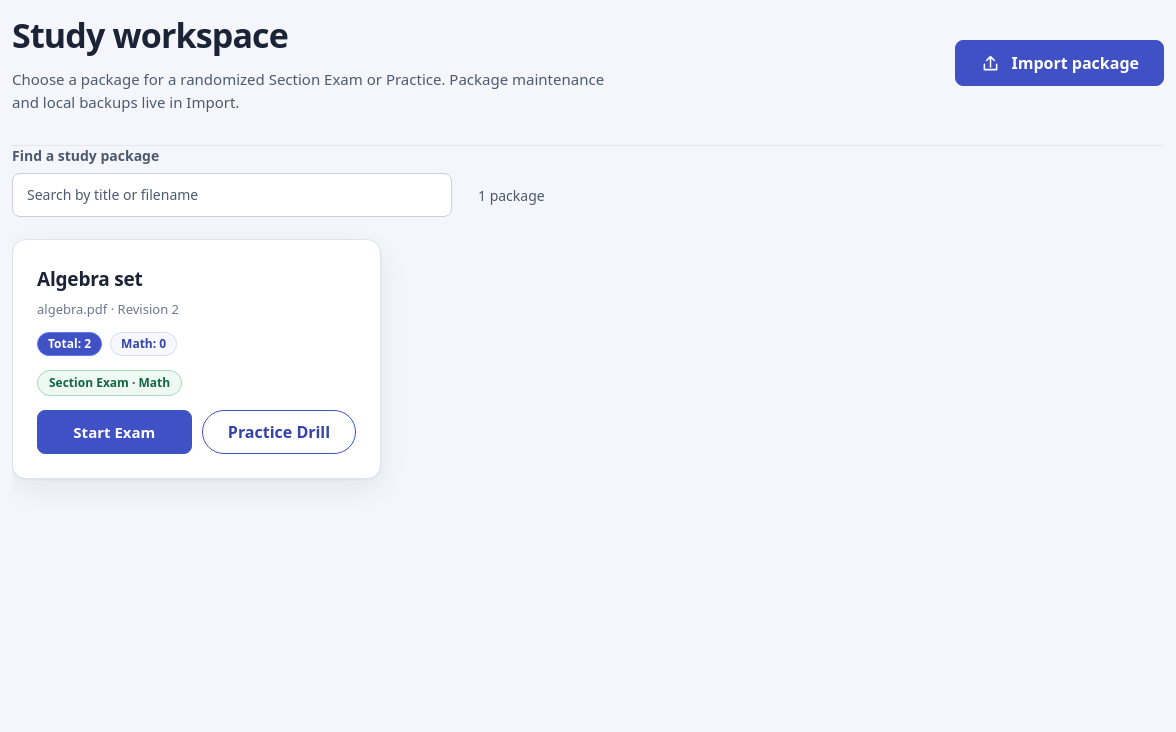
Test case: keeps only study actions and compact search in the study workspace
Expected: the heading "Study workspace" is shown, [12,12,288,58]
Expected: the button "Start Exam" is shown, [37,410,192,454]
In the search field labelled "Find a study package": point(232, 194) [12,172,452,216], type "missing"
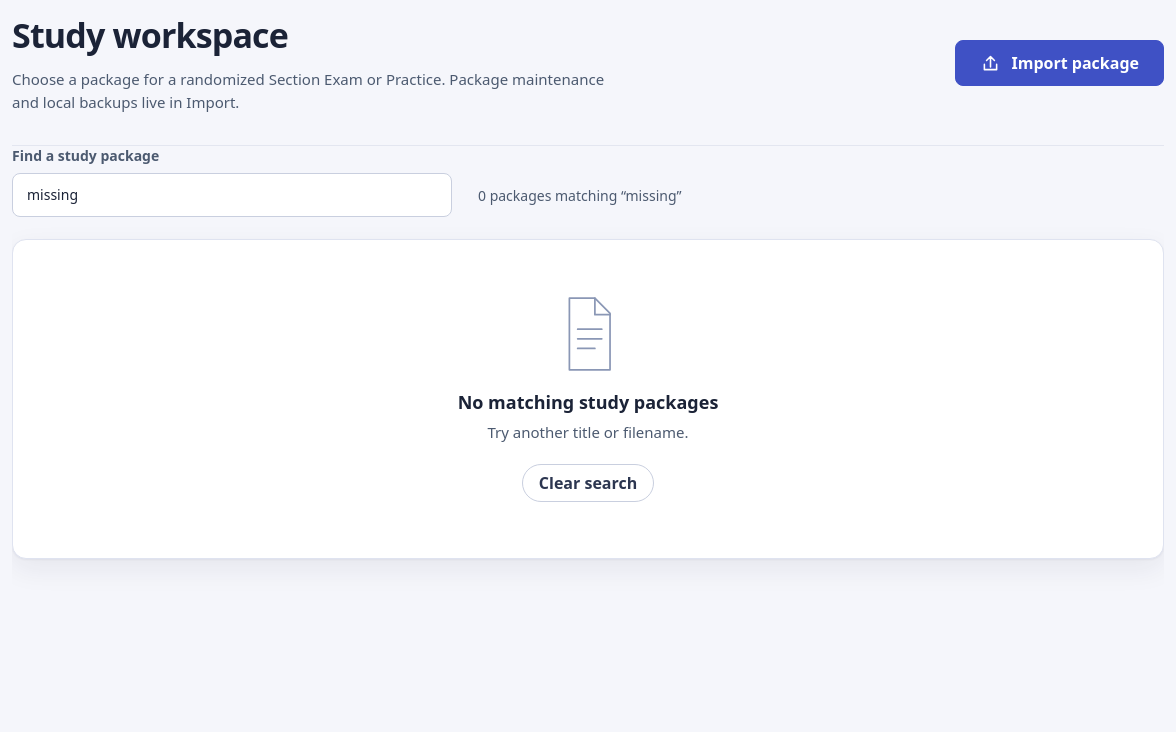
Now the text "No matching study packages" is shown, box [458,390,718,414]
